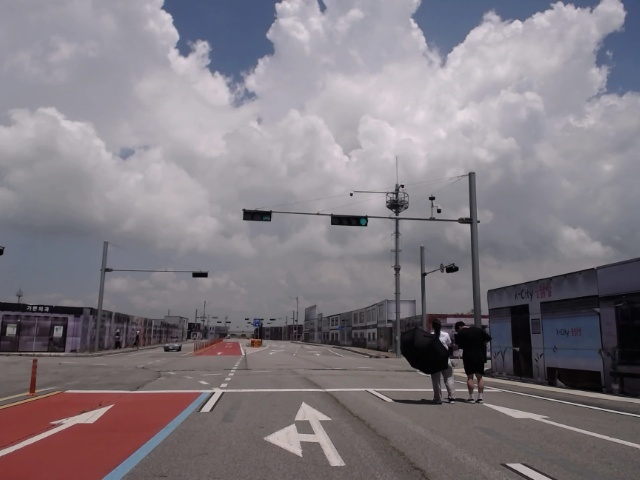straight_green_4: (330, 214, 369, 227)
